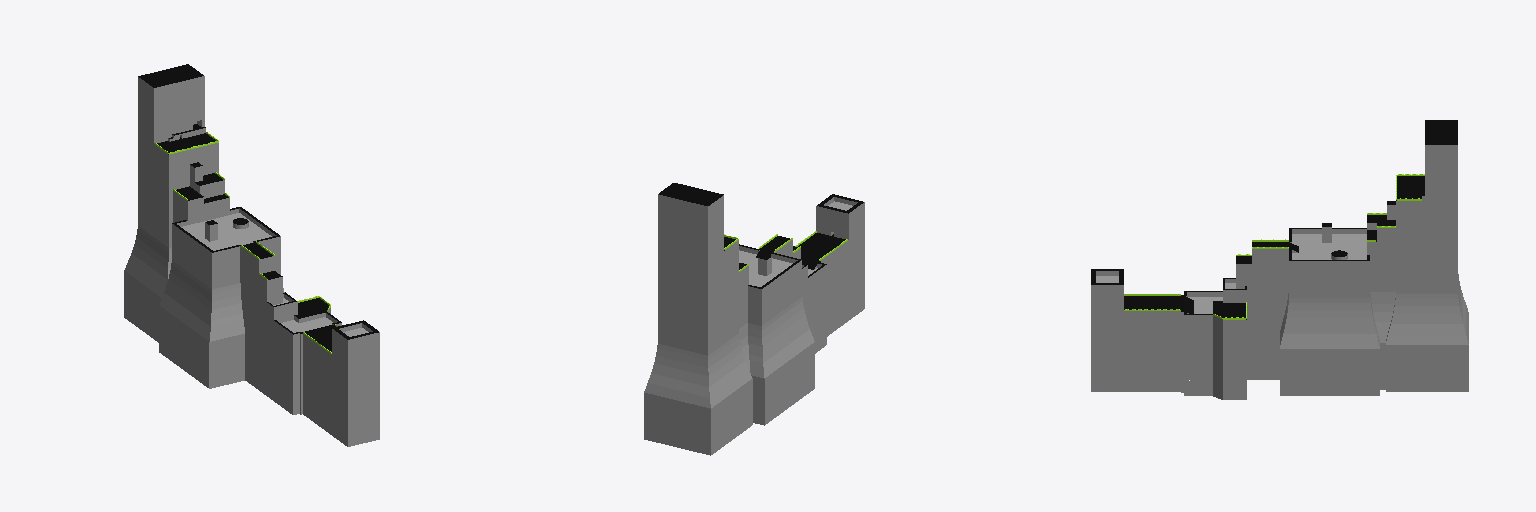
Rendered from CapWorldTower.obj.
The picture shows the model from 3 angles: view 1: azimuth 30°, elevation 25°; view 2: azimuth 150°, elevation 25°; view 3: azimuth 270°, elevation 25°; orthographic projection.
Visible parts, largest first — view 1: CapWorldTowerGround000.obj; view 2: CapWorldTowerGround000.obj; view 3: CapWorldTowerGround000.obj.
Part boxes in pixels (x1,y1,x2,y2): CapWorldTowerGround000.obj: (124,64,379,446); CapWorldTowerGround000.obj: (644,183,864,455); CapWorldTowerGround000.obj: (1091,120,1468,399).
Size of the model in its own units: 6648 by 16551 by 23263.